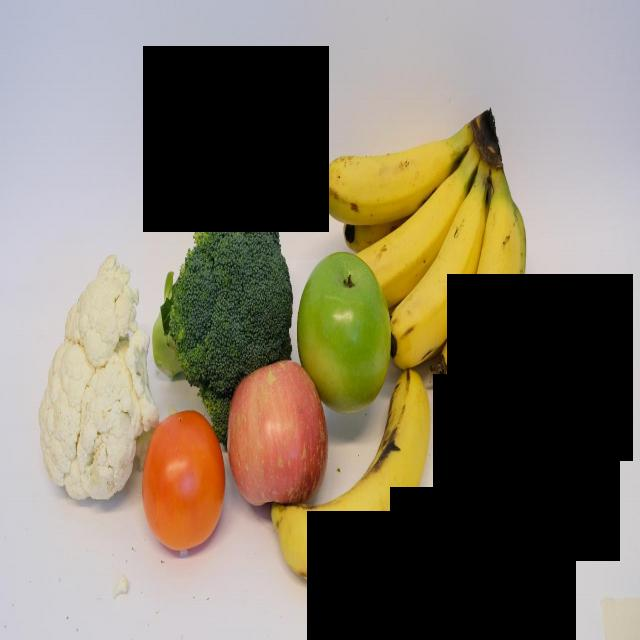apple: (295, 247, 392, 414), (227, 360, 328, 508)
banana: (270, 372, 430, 587), (337, 158, 473, 310), (386, 183, 491, 370), (448, 192, 534, 402), (316, 135, 452, 227)
broccoli: (152, 175, 293, 452)
cauliflower: (38, 250, 160, 504)
tomato: (142, 407, 225, 552)
